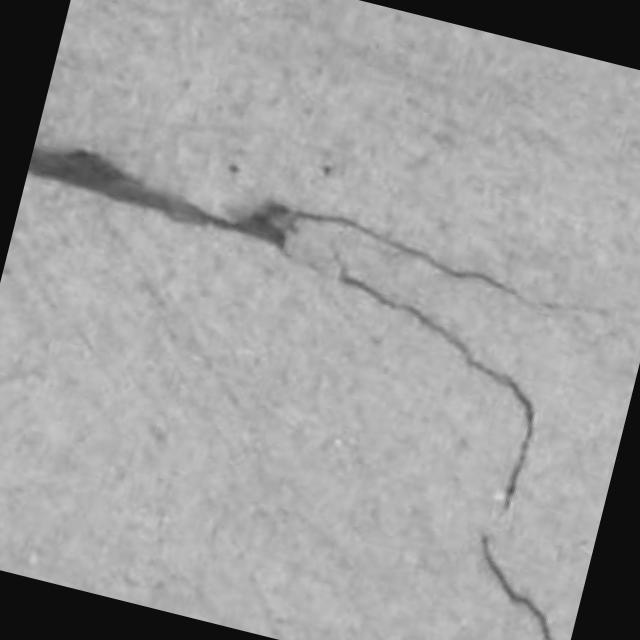crack: (27, 148, 519, 296), (338, 261, 535, 510), (27, 148, 286, 248), (481, 535, 554, 639)
